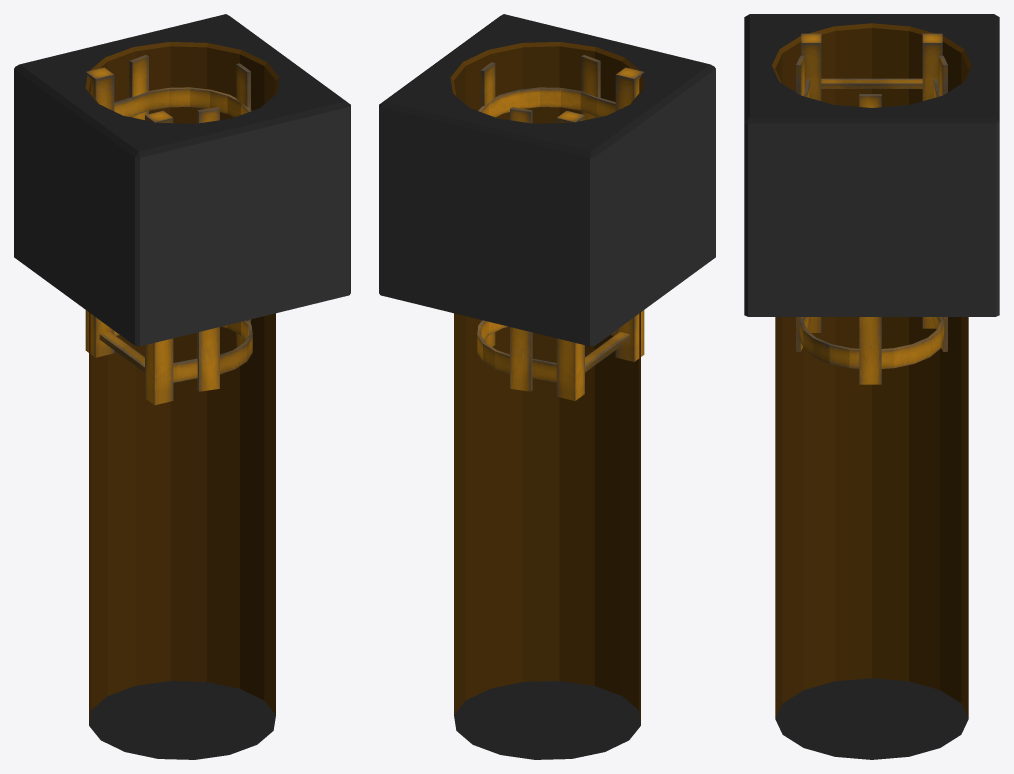
Rendered from entrance.glb.
The picture shows the model from 3 angles, left to right: view 1: azimuth 30°, elevation 25°; view 2: azimuth 150°, elevation 25°; view 3: azimuth 270°, elevation 25°; orthographic projection. The views are drawn at different scales.
Parts seen in each view (by area): view 1: entrance, louti; view 2: entrance, louti; view 3: entrance, louti.
Part boxes in pixels (bbox=[...]): entrance: bbox=[14, 14, 350, 759]; louti: bbox=[85, 55, 252, 405]; entrance: bbox=[379, 14, 715, 759]; louti: bbox=[477, 55, 644, 400]; entrance: bbox=[744, 14, 999, 759]; louti: bbox=[796, 33, 947, 384].
Size of the model in its own units: 100 by 282 by 100.
2 materials, 2 textured.
